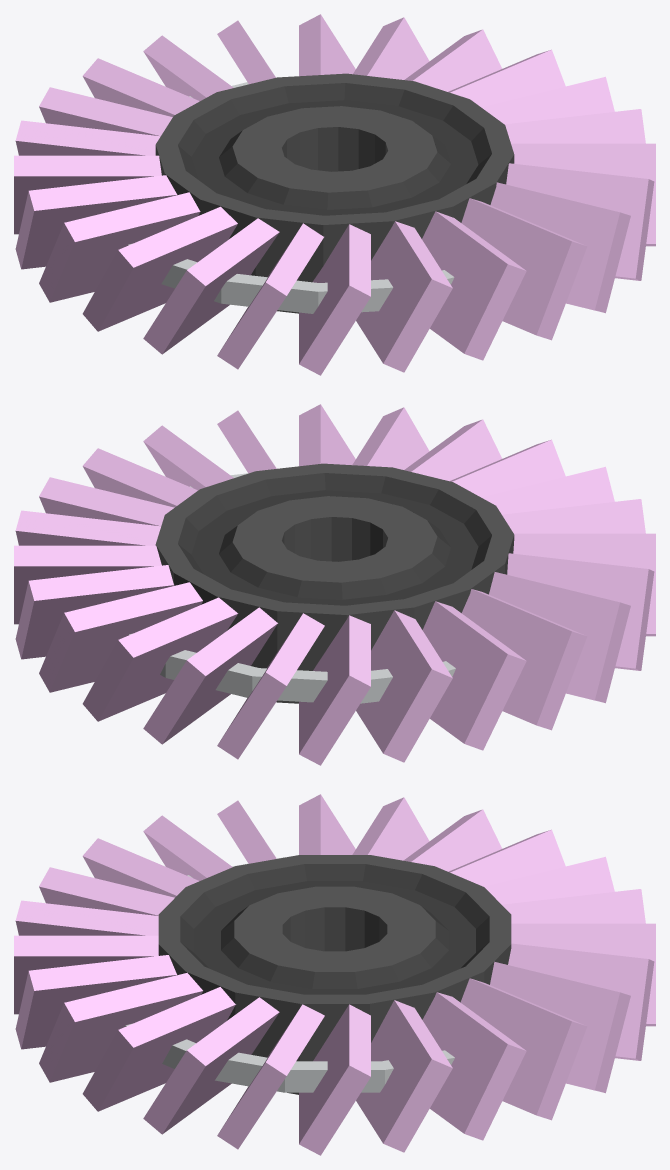
The model's file is rotor_titanium.obj.
3 views of the same model, one above another, from view 1: azimuth 30°, elevation 25°; view 2: azimuth 150°, elevation 25°; view 3: azimuth 270°, elevation 25° (orthographic).
Visible parts, largest first — view 1: 3, 2, 1, g, f, h, c, a, q, e, r, i (+16 smaller); view 2: 3, 2, 1, s, r, t, x, b, a, w, j, u (+16 smaller); view 3: 3, 2, 1, k, j, l, p, q, b, o, f, m (+16 smaller).
Boxes of the visible parts, left/top/right/bottom form: 3: left=178, top=83, right=491, bottom=215; 2: left=155, top=73, right=514, bottom=313; 1: left=232, top=106, right=437, bottom=192; g: left=422, top=211, right=526, bottom=360; f: left=461, top=198, right=587, bottom=340; h: left=356, top=221, right=452, bottom=372; c: left=82, top=206, right=237, bottom=331; a: left=39, top=192, right=200, bottom=302; q: left=490, top=182, right=630, bottom=313; e: left=143, top=218, right=279, bottom=354; r: left=15, top=175, right=177, bottom=269; i: left=299, top=224, right=370, bottom=375; 3: left=178, top=473, right=491, bottom=605; 2: left=155, top=463, right=514, bottom=703; 1: left=232, top=496, right=437, bottom=582; s: left=422, top=601, right=526, bottom=750; r: left=461, top=589, right=587, bottom=730; t: left=356, top=610, right=452, bottom=762; x: left=82, top=597, right=238, bottom=721; b: left=39, top=582, right=202, bottom=692; a: left=489, top=572, right=630, bottom=703; w: left=143, top=607, right=277, bottom=744; j: left=15, top=565, right=174, bottom=659; u: left=299, top=615, right=370, bottom=765; 3: left=180, top=864, right=489, bottom=994; 2: left=158, top=855, right=511, bottom=1094; 1: left=234, top=886, right=435, bottom=971; k: left=422, top=992, right=526, bottom=1140; j: left=460, top=978, right=587, bottom=1120; l: left=356, top=1000, right=452, bottom=1152; p: left=82, top=987, right=235, bottom=1111; q: left=39, top=972, right=202, bottom=1082; b: left=490, top=961, right=630, bottom=1093; o: left=143, top=997, right=279, bottom=1134; f: left=15, top=955, right=176, bottom=1049; m: left=299, top=1004, right=370, bottom=1155.
Bounding box in the file's own units: 1.59 × 0.25 × 1.59.
